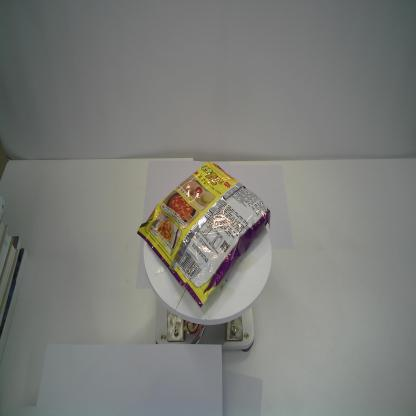Instant Noodles: (136, 160, 272, 310)
